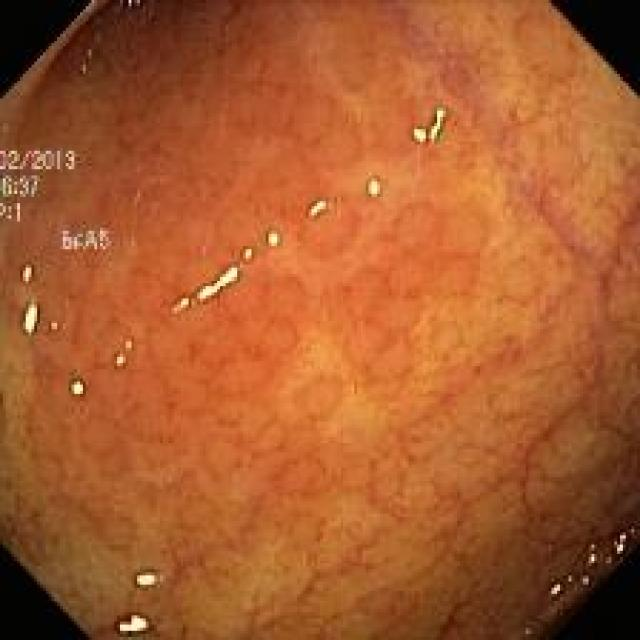ulcerative-colitis-grade-0-1: (18, 122, 640, 629)
